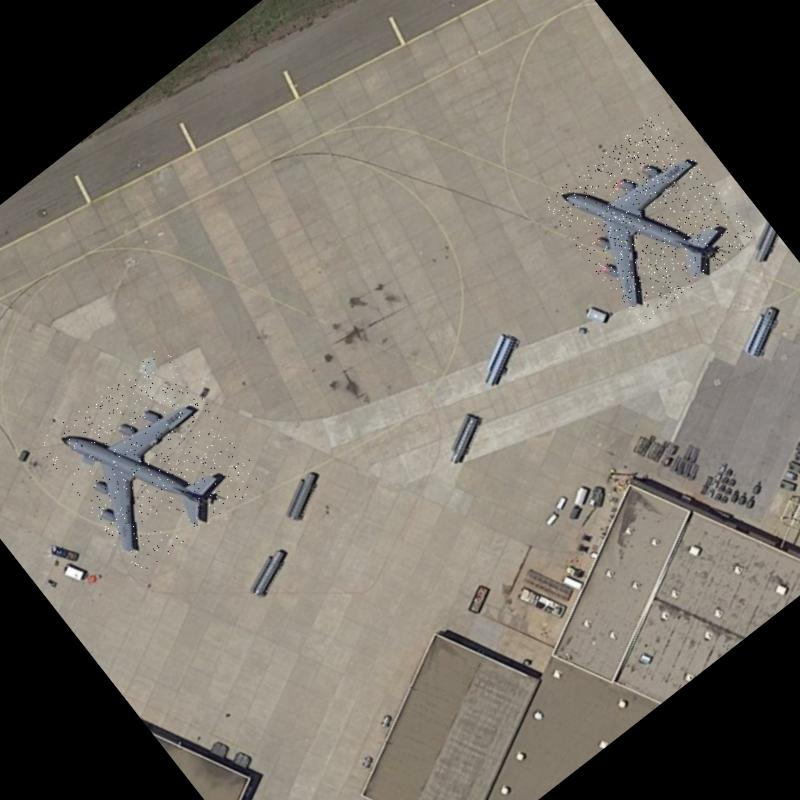A14: (36, 344, 268, 578), (542, 111, 756, 328)
